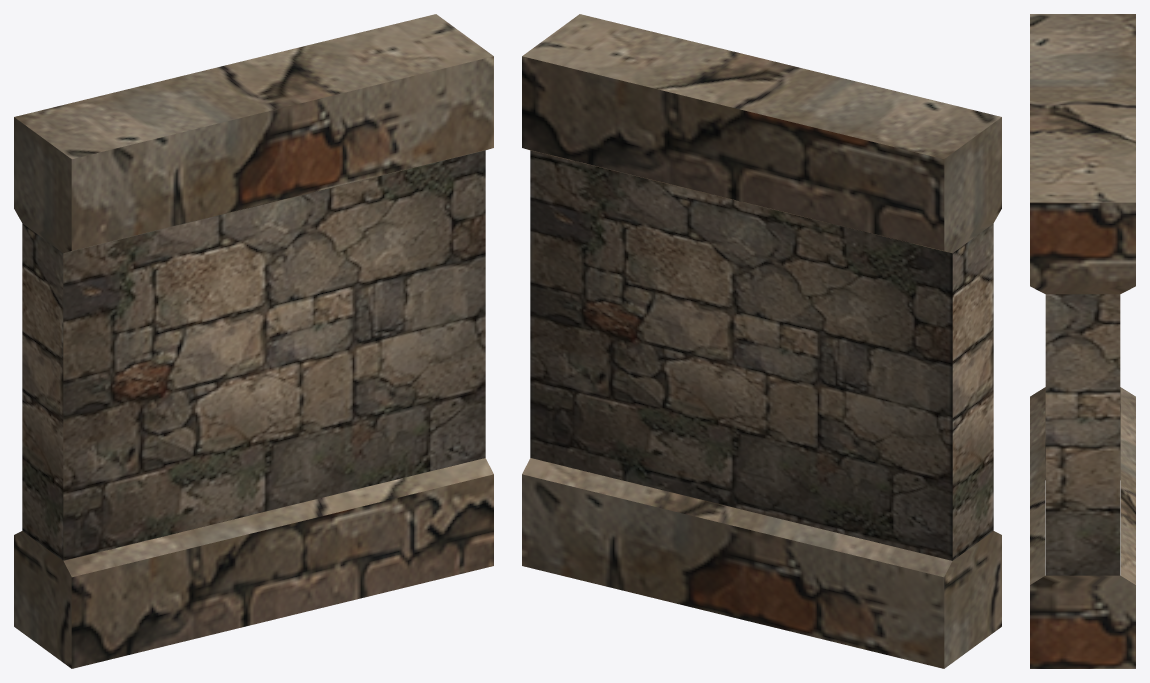
File: fence_1.fbx
The picture shows the model from 3 angles, left to right: view 1: azimuth 30°, elevation 25°; view 2: azimuth 150°, elevation 25°; view 3: azimuth 270°, elevation 25°; orthographic projection. The views are drawn at different scales.
Visible parts, largest first — view 1: fence_1; view 2: fence_1; view 3: fence_1.
Boxes of the visible parts, x1=… form: fence_1: x1=14, y1=14, x2=493, y2=668; fence_1: x1=522, y1=14, x2=1001, y2=668; fence_1: x1=1030, y1=14, x2=1135, y2=668.
Bounding box in the file's own units: 3 × 3.46 × 0.711.
